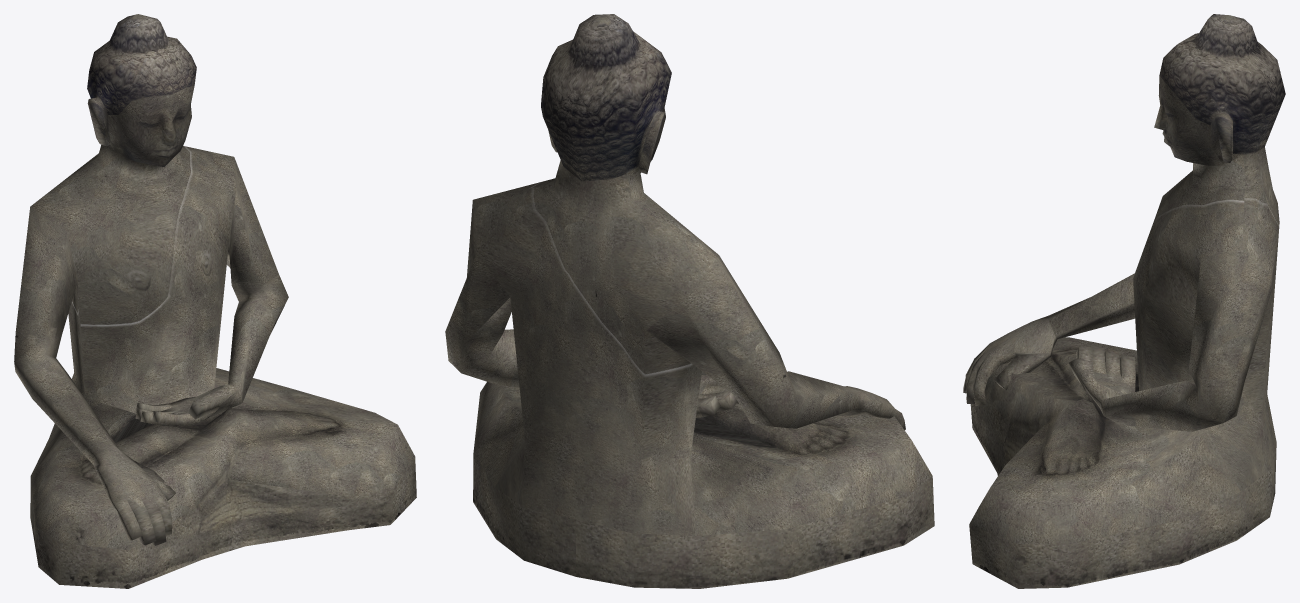
File: Patung_Timur.FBX
3 renders of one model, left to right at view 1: azimuth 30°, elevation 25°; view 2: azimuth 150°, elevation 25°; view 3: azimuth 270°, elevation 25°, orthographic. The views are drawn at different scales.
Visible parts, largest first — view 1: Patung_Timur; view 2: Patung_Timur; view 3: Patung_Timur.
Boxes of the visible parts, box(x1,y1,x2,y2) form: Patung_Timur: box(14, 14, 416, 588); Patung_Timur: box(445, 14, 934, 588); Patung_Timur: box(963, 14, 1285, 588).
Bounding box in the file's own units: 0.7908 × 0.9594 × 0.5829.
